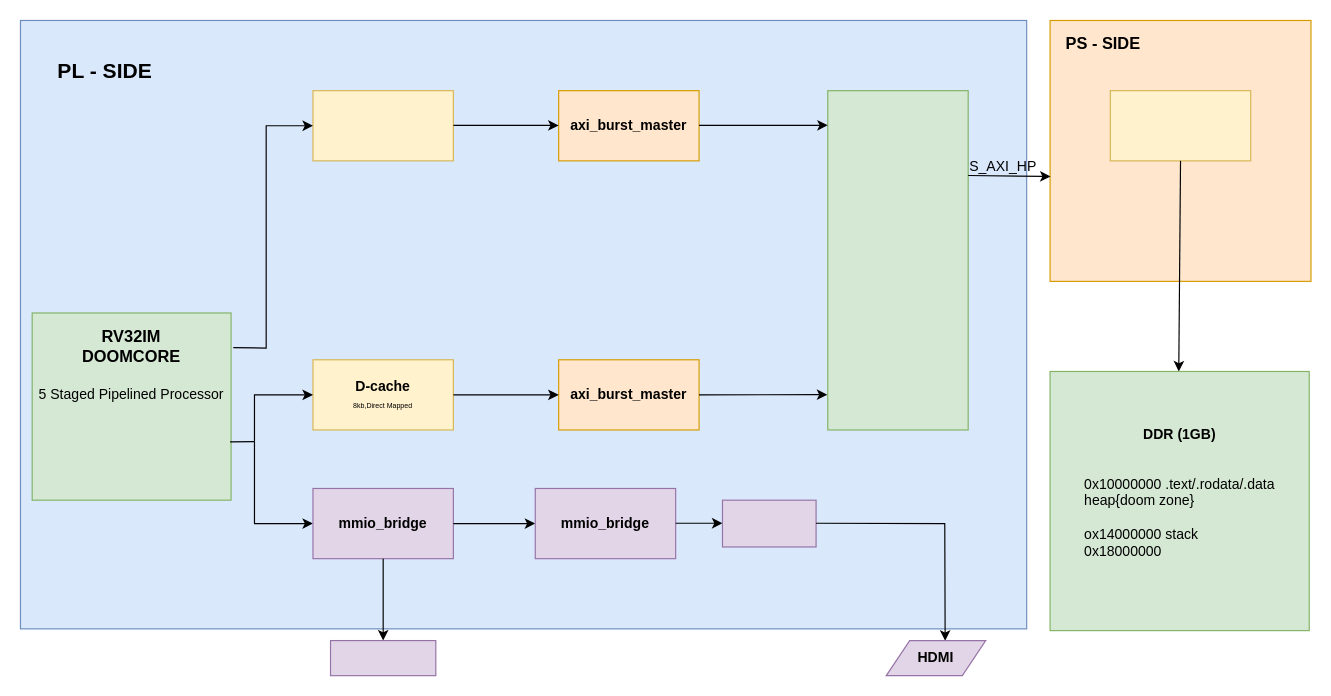
Image size: 1331x696. Some labels were removed from this diagram. Each missing label, with the box of its shape:
DDR CONTROLLER: (1109, 90, 1251, 161)
I-cache 8kb,Direct Mapped: (312, 90, 453, 161)
rgb2dvi tmds: (721, 499, 816, 547)
SMART_CONNECT 2-1: (827, 90, 968, 430)
SW/LEDS: (329, 639, 436, 676)
